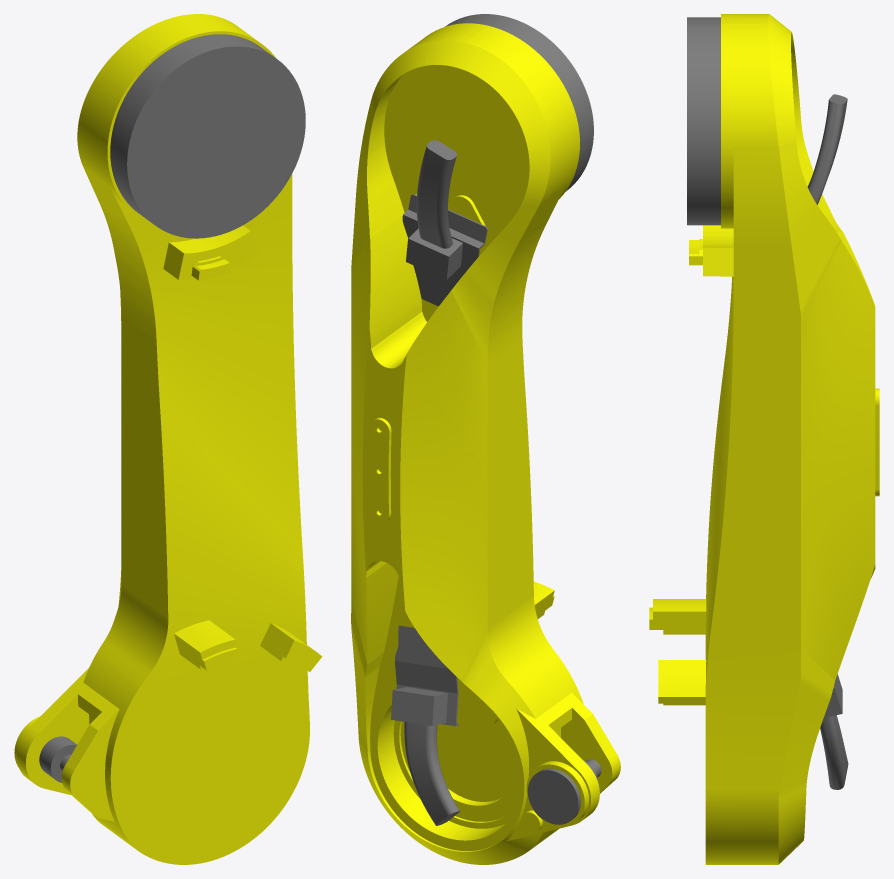
The picture shows the model from 3 angles, left to right: view 1: azimuth 30°, elevation 25°; view 2: azimuth 150°, elevation 25°; view 3: azimuth 270°, elevation 25°; orthographic projection.
Parts seen in each view (by area): view 1: Mesh_0; view 2: Mesh_0; view 3: Mesh_0.
Boxes of the visible parts, <box> form: Mesh_0: <box>14,14,322,864</box>; Mesh_0: <box>351,14,620,864</box>; Mesh_0: <box>649,14,879,864</box>.
Size of the model in its own units: 0.447 by 0.36 by 1.43.
